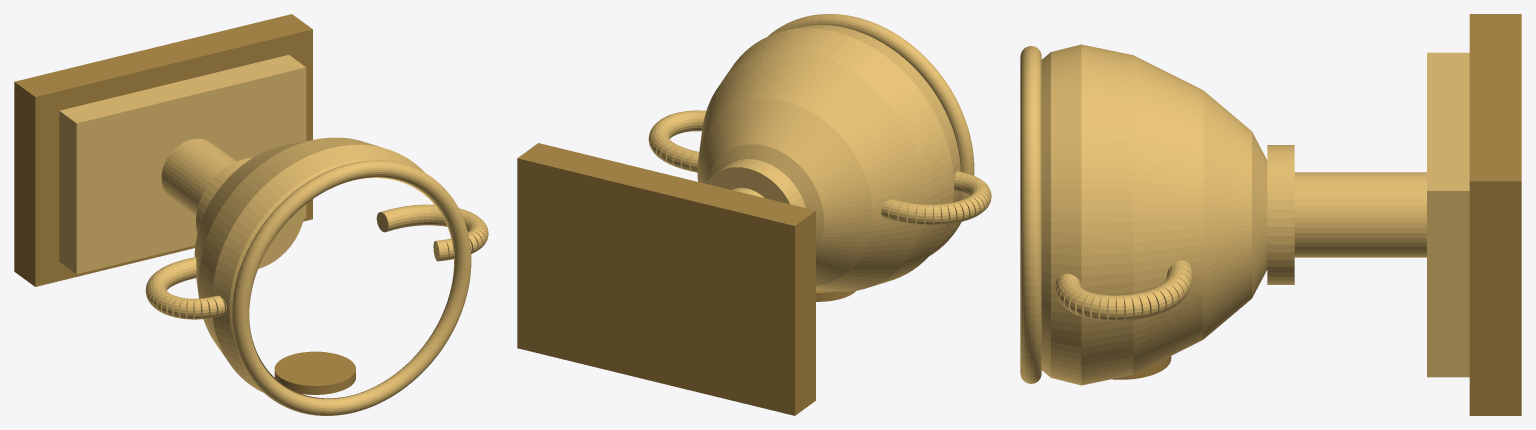
Rendered from trophy.glb.
3 views of the same model, side by side, from view 1: azimuth 30°, elevation 25°; view 2: azimuth 150°, elevation 25°; view 3: azimuth 270°, elevation 25° (orthographic). The views are drawn at different scales.
Parts seen in each view (by area): view 1: base_upper, base_lower, cup, rim, stem, front_medallion, handle_L, handle_R, stem_flare; view 2: base_lower, cup, rim, handle_L, stem_flare, handle_R; view 3: cup, base_lower, base_upper, stem, rim, handle_R, stem_flare.
Boxes of the visible parts, x1,y1,x2,y2 form: base_upper: (59, 55, 306, 274); base_lower: (14, 14, 312, 286); cup: (194, 137, 454, 398); rim: (232, 160, 471, 415); stem: (161, 138, 236, 216); front_medallion: (274, 351, 355, 394); handle_L: (145, 257, 226, 319); handle_R: (376, 204, 488, 261); stem_flare: (196, 157, 305, 268); base_lower: (517, 143, 815, 415); cup: (697, 25, 960, 291); rim: (768, 14, 974, 256); handle_L: (881, 171, 991, 225); stem_flare: (706, 159, 805, 207); handle_R: (648, 110, 706, 172); cup: (1041, 44, 1267, 385); base_lower: (1469, 14, 1521, 415); base_upper: (1427, 52, 1469, 377); stem: (1294, 172, 1426, 257); rim: (1020, 46, 1041, 383); handle_R: (1055, 260, 1192, 321); stem_flare: (1267, 145, 1294, 284).
Size of the model in its own units: 3.07 by 2.24 by 3.29.
